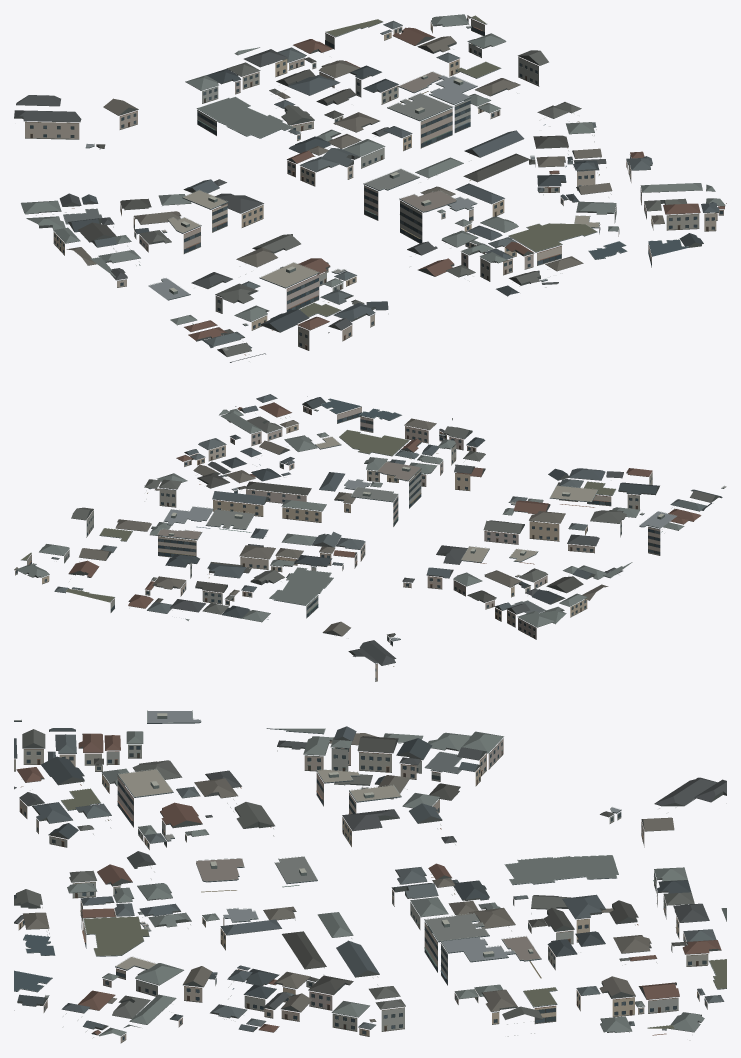
3 views of the same model, one above another, from view 1: azimuth 30°, elevation 25°; view 2: azimuth 150°, elevation 25°; view 3: azimuth 270°, elevation 25° (orthographic). The views are drawn at different scales.
Parts seen in each view (by area): view 1: r4-c2; view 2: r4-c2; view 3: r4-c2.
Part boxes in pixels (<box>): r4-c2: <box>14,14,726,362</box>; r4-c2: <box>14,394,726,681</box>; r4-c2: <box>14,710,726,1043</box>.
Size of the model in its own units: 250 by 18.09 by 250.
